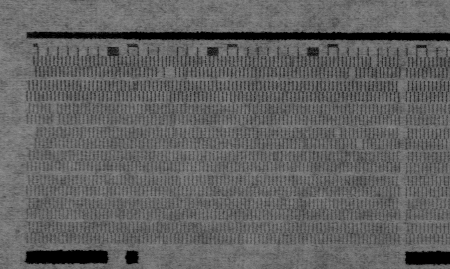Broken hole: (23, 125, 39, 150), (25, 53, 39, 78), (154, 67, 178, 80), (354, 136, 366, 150), (347, 67, 359, 80), (332, 128, 344, 140), (368, 55, 379, 68)
